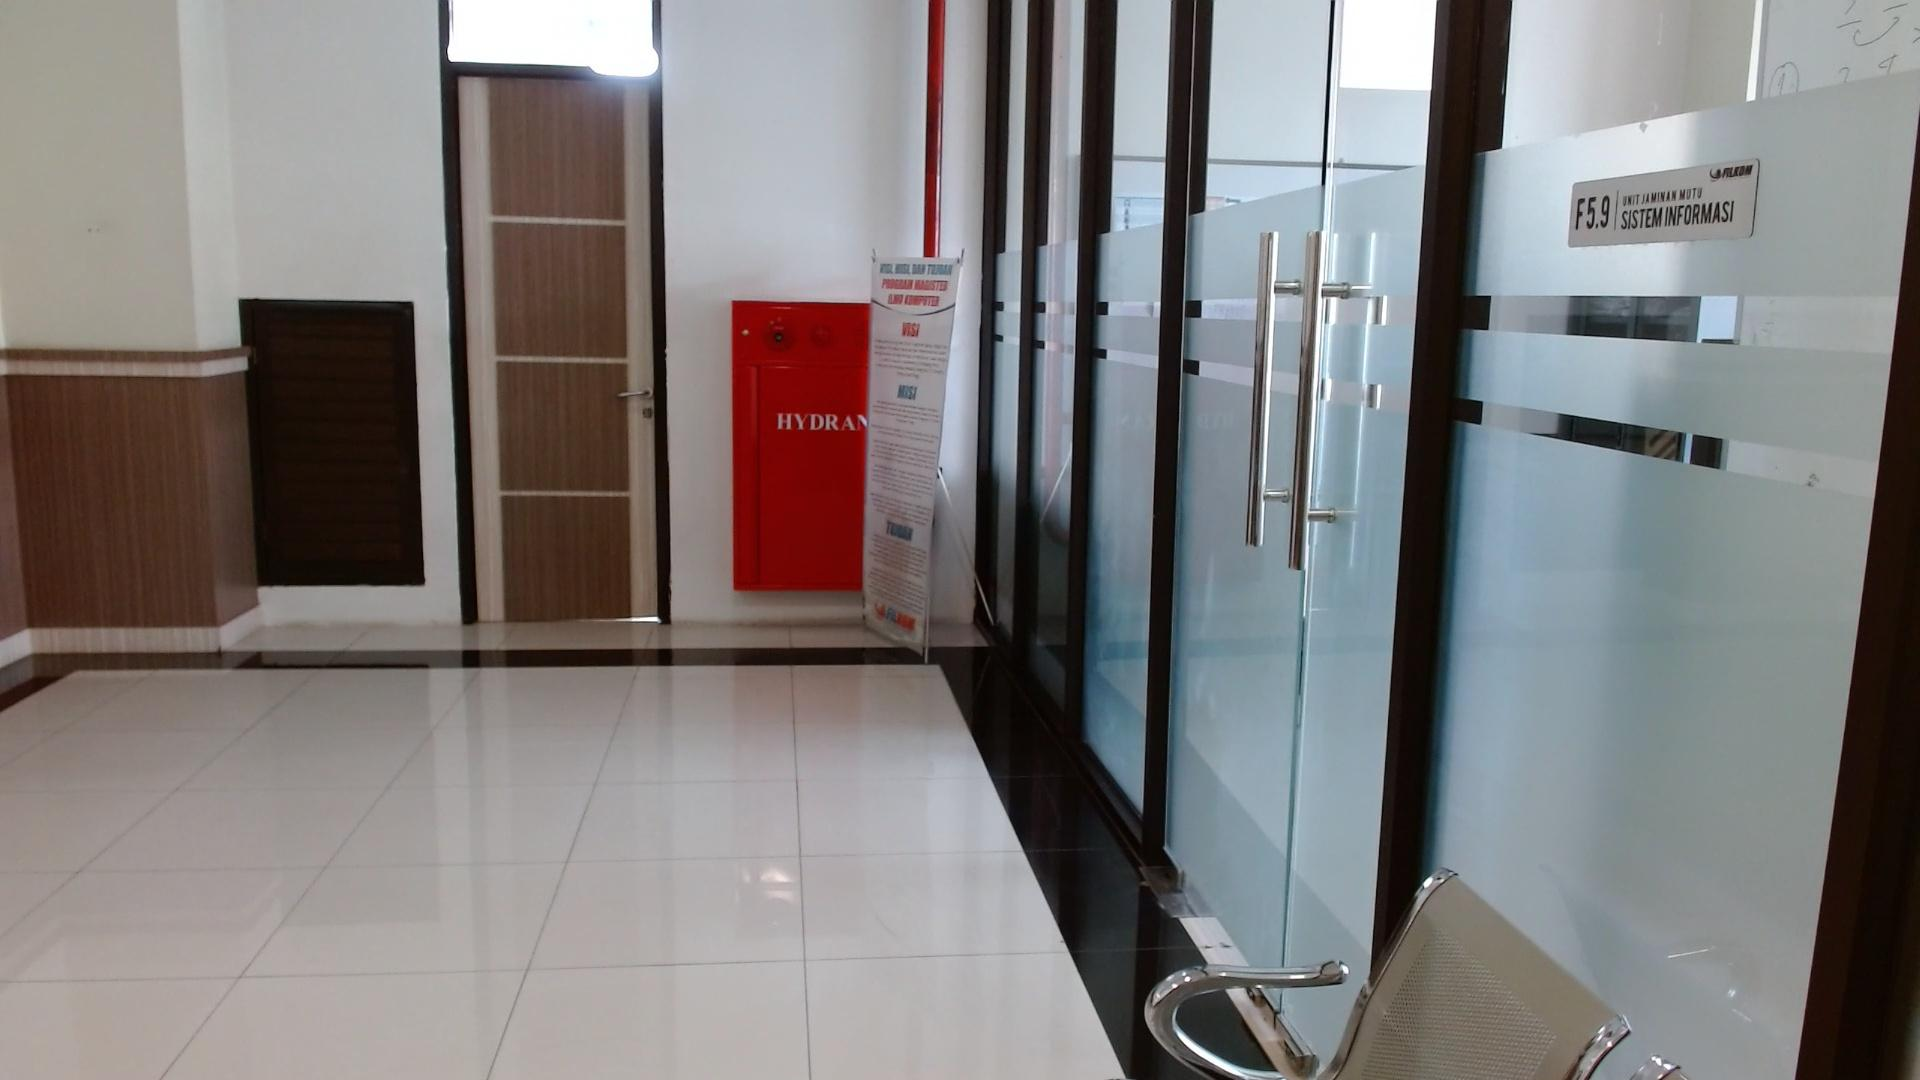plate: (1568, 158, 1759, 248)
